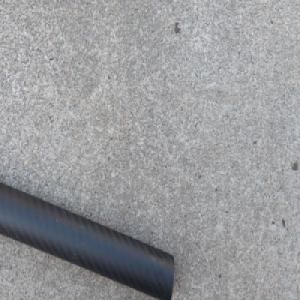LuggagePart: (0, 179, 175, 300)
